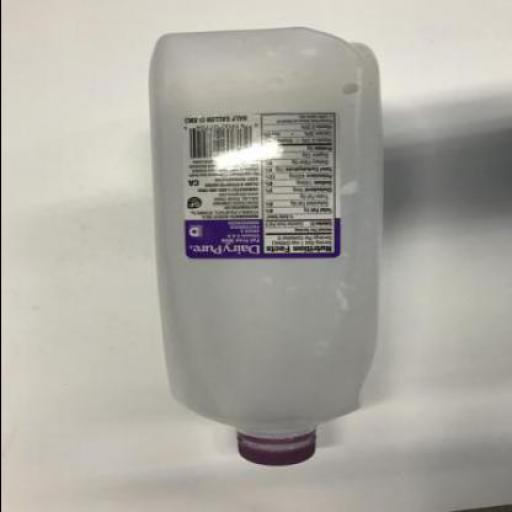plastic: (145, 28, 382, 466), (230, 429, 316, 467)
